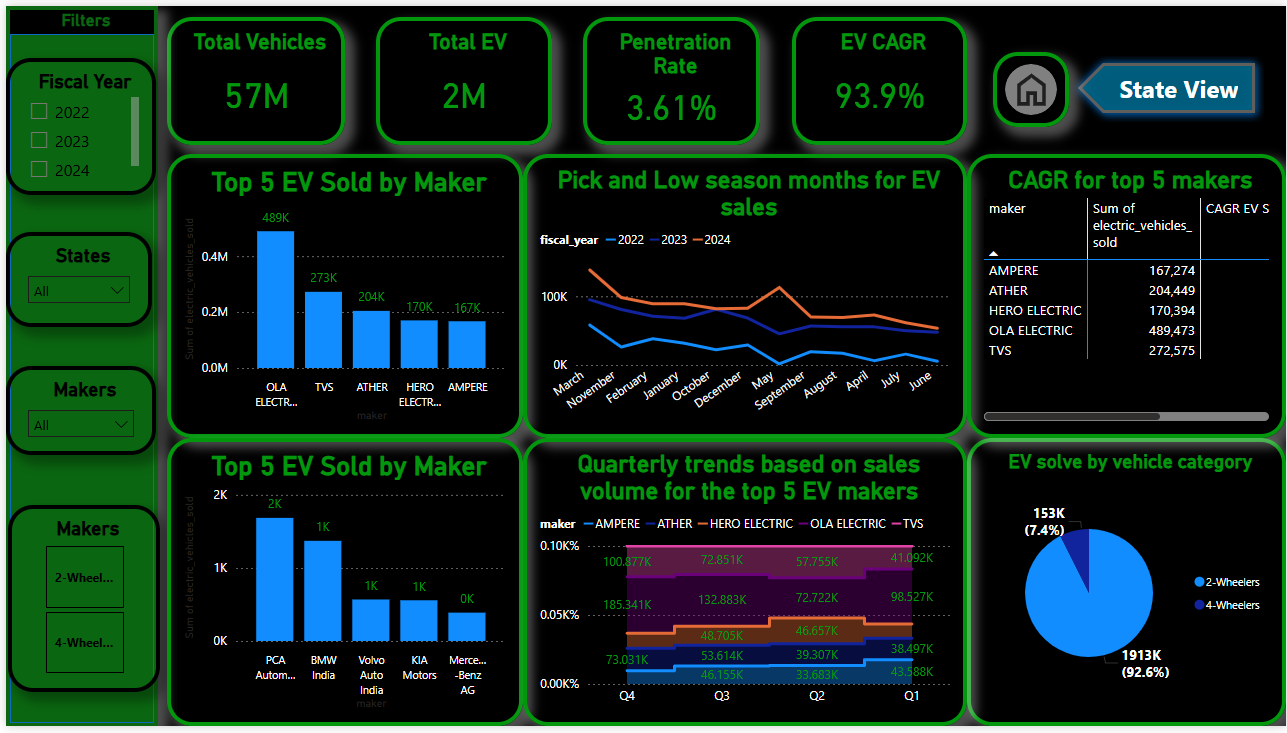

This screenshot's page, from the dashboard's own definition file:
{"tool":"powerbi","page":{"name":"Maker Report","canvas":[1280,720],"ordinal":1},"visuals":[{"type":"card","title":"Total Vehicles","fields":{"Values":["Sum(electric_vehicle_sales_by_state.total_vehicles_sold)"]},"box":[161.1,11.1,177.8,127.8],"z":0},{"type":"card","title":"Total EV","fields":{"Values":["Sum(electric_vehicle_sales_by_state.electric_vehicles_sold)"]},"box":[370,11.1,175.6,127.8],"z":1000},{"type":"card","title":"Penetration Rate","fields":{"Values":["electric_vehicle_sales_by_makers.Penetration Rate"]},"box":[576.7,11.1,177.8,127.8],"z":2000},{"type":"card","title":"EV CAGR","fields":{"Values":["electric_vehicle_sales_by_makers.CAGR EV Sales by Maker (%)"]},"box":[785.6,11.1,175.6,127.8],"z":3000},{"type":"shape","title":"Filters","box":[0,0,152.2,721.1],"z":4000},{"type":"slicer","title":"Fiscal Year","fields":{"Values":["dim_date.fiscal_year"]},"box":[0,52.2,150,136.7],"z":5000},{"type":"slicer","title":"Makers","fields":{"Values":["electric_vehicle_sales_by_makers.maker"]},"box":[0,360,150,88.9],"z":6000},{"type":"slicer","title":"States","fields":{"Values":["electric_vehicle_sales_by_state.state"]},"box":[0,225.6,145.6,95.6],"z":7000},{"type":"slicer","title":"Makers","fields":{"Values":["electric_vehicle_sales_by_state.vehicle_category"]},"box":[2.2,498.9,152.2,186.7],"z":8000},{"type":"columnChart","title":"Top 5 EV Sold by Maker","fields":{"Category":["electric_vehicle_sales_by_makers.maker"],"Y":["Sum(electric_vehicle_sales_by_makers.electric_vehicles_sold)"]},"box":[161.1,147.8,355.6,284.4],"z":9000},{"type":"columnChart","title":"Top 5 EV Sold by Maker","fields":{"Category":["electric_vehicle_sales_by_makers.maker"],"Y":["Sum(electric_vehicle_sales_by_makers.electric_vehicles_sold)"]},"box":[161.1,432.2,355.6,287.8],"z":10000},{"type":"lineChart","title":"Pick and Low season months for EV sales","fields":{"Y":["Sum(electric_vehicle_sales_by_makers.electric_vehicles_sold)"],"Series":["dim_date.fiscal_year"],"Category":["dim_date.MonthName"]},"box":[516.7,147.8,444.4,284.4],"z":11000},{"type":"pieChart","title":"EV solve by vehicle category","fields":{"Category":["electric_vehicle_sales_by_makers.vehicle_category"],"Y":["Sum(electric_vehicle_sales_by_makers.electric_vehicles_sold)"]},"box":[961.1,432.2,318.9,287.8],"z":12000},{"type":"hundredPercentStackedAreaChart","title":"Quarterly trends based on sales volume for the top 5 EV makers","fields":{"Series":["electric_vehicle_sales_by_makers.maker"],"Category":["dim_date.quarter"],"Y":["Sum(electric_vehicle_sales_by_makers.electric_vehicles_sold)"]},"box":[516.7,432.2,444.4,287.8],"z":13000},{"type":"pivotTable","title":"CAGR for top 5 makers","fields":{"Rows":["electric_vehicle_sales_by_makers.maker"],"Values":["Sum(electric_vehicle_sales_by_makers.electric_vehicles_sold)","electric_vehicle_sales_by_makers.CAGR EV Sales by Maker (%)"]},"box":[961.1,147.8,318.9,284.4],"z":14000},{"type":"actionButton","box":[1063.3,47.8,194.4,67.8],"z":15000},{"type":"actionButton","box":[986.7,45.6,76.7,75.6],"z":16000}]}

Visuals, with their boxes in screenshot pixels (x1, y1, x2, y2), scaled from the page's 1280x720 canvas onto the 1287x733 screenshot:
"Total Vehicles" card: 162 11 341 141
"Total EV" card: 372 11 549 141
"Penetration Rate" card: 580 11 759 141
"EV CAGR" card: 790 11 966 141
"Filters" shape: 0 0 153 732
"Fiscal Year" slicer: 0 53 151 192
"Makers" slicer: 0 366 151 457
"States" slicer: 0 230 146 327
"Makers" slicer: 2 508 155 698
"Top 5 EV Sold by Maker" columnChart: 162 150 520 440
"Top 5 EV Sold by Maker" columnChart: 162 440 520 732
"Pick and Low season months for EV sales" lineChart: 520 150 966 440
"EV solve by vehicle category" pieChart: 966 440 1286 732
"Quarterly trends based on sales volume for the top 5 EV makers" hundredPercentStackedAreaChart: 520 440 966 732
"CAGR for top 5 makers" pivotTable: 966 150 1286 440
actionButton: 1069 49 1265 118
actionButton: 992 46 1069 123
